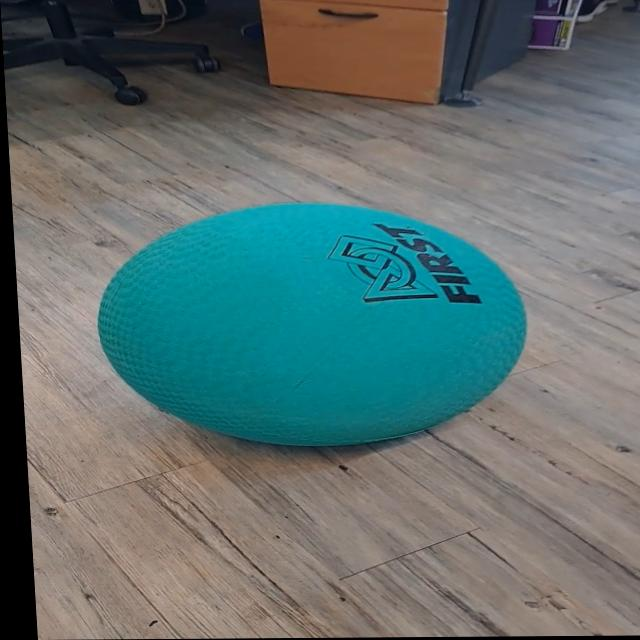ALGAE: (87, 198, 536, 449)
